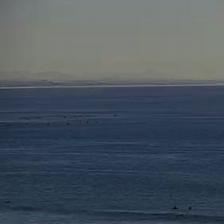surfer: (176, 213, 185, 217), (3, 200, 11, 204), (173, 206, 178, 209), (189, 207, 193, 210)
